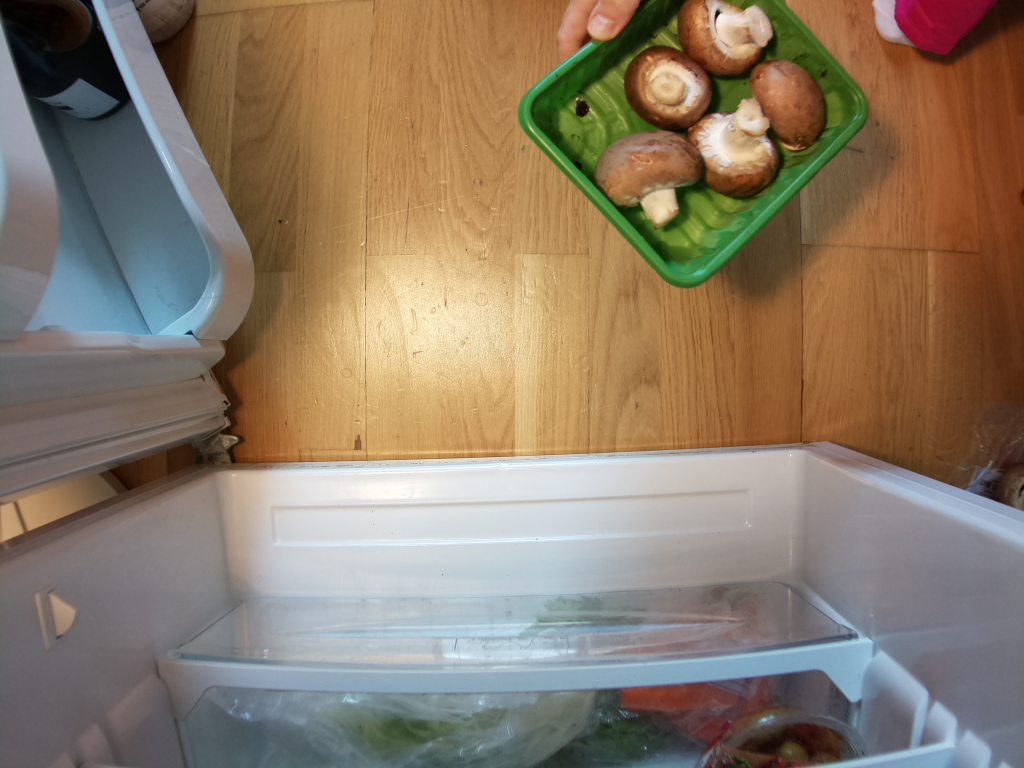mushrooms: (518, 1, 864, 286)
